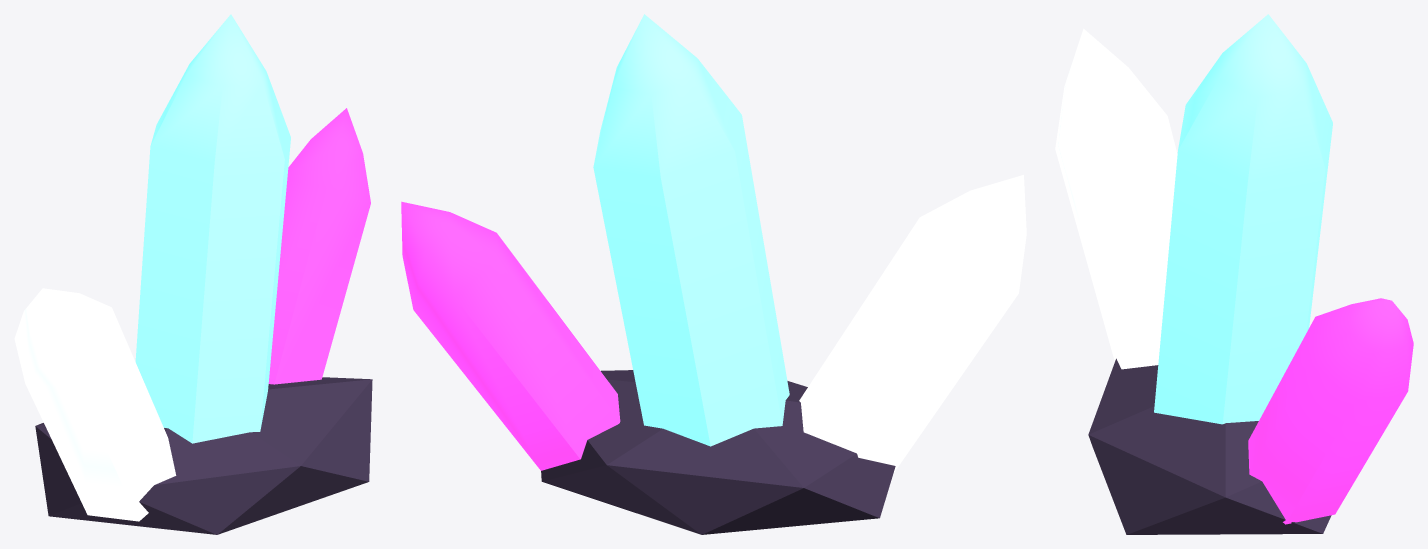
Rendered from W4_Crystal_C.fbx.
The picture shows the model from 3 angles, left to right: view 1: azimuth 30°, elevation 25°; view 2: azimuth 150°, elevation 25°; view 3: azimuth 270°, elevation 25°; orthographic projection. The views are drawn at different scales.
Parts seen in each view (by area): view 1: W4_Crystal_C; view 2: W4_Crystal_C; view 3: W4_Crystal_C.
Boxes of the visible parts, bbox=[...] form: W4_Crystal_C: bbox=[14, 14, 372, 534]; W4_Crystal_C: bbox=[401, 14, 1026, 534]; W4_Crystal_C: bbox=[1055, 14, 1413, 534].
Size of the model in its own units: 3.56 by 3.26 by 2.19.
